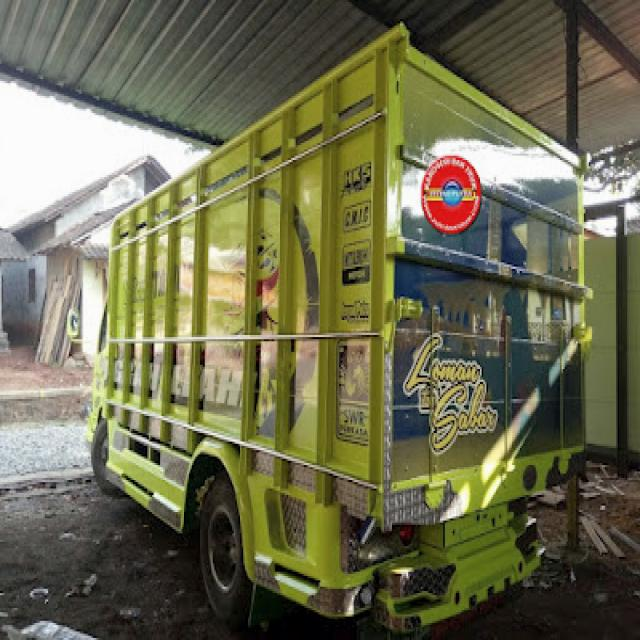truck: (65, 20, 591, 626)
